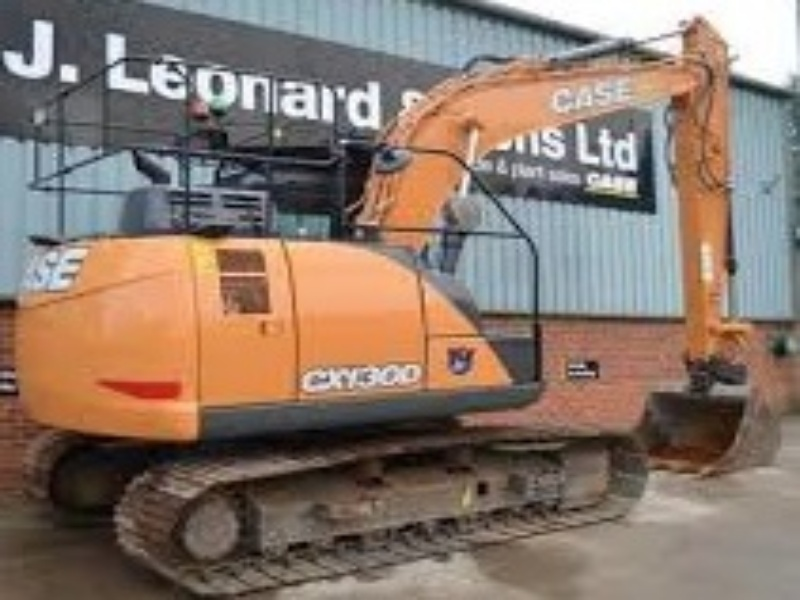wajueji: (19, 48, 676, 591)
